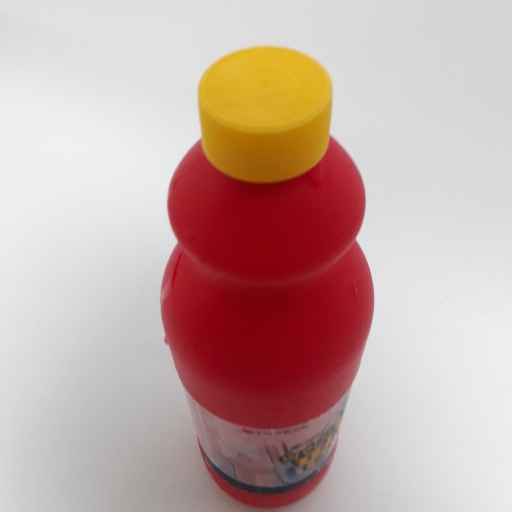Plastic_0: (159, 41, 377, 510)
